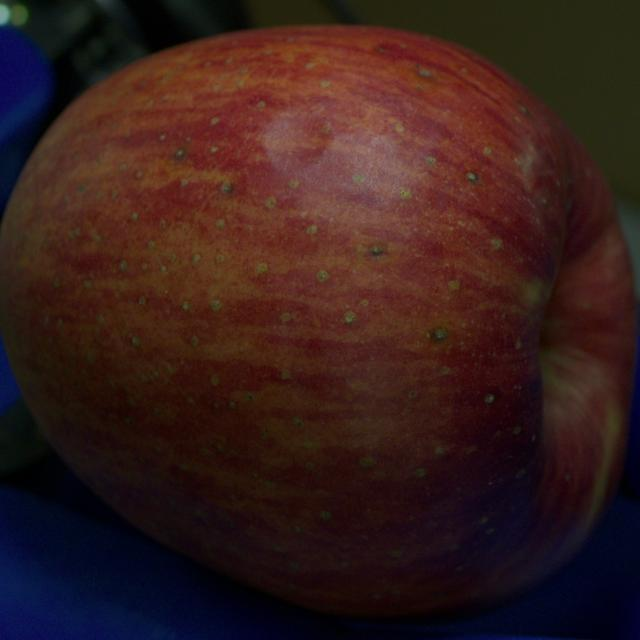apple: (0, 27, 636, 617)
bruise: (263, 100, 338, 172)
pest: (432, 328, 448, 341), (369, 244, 382, 255), (173, 149, 186, 159), (221, 181, 232, 192), (467, 172, 478, 181)
